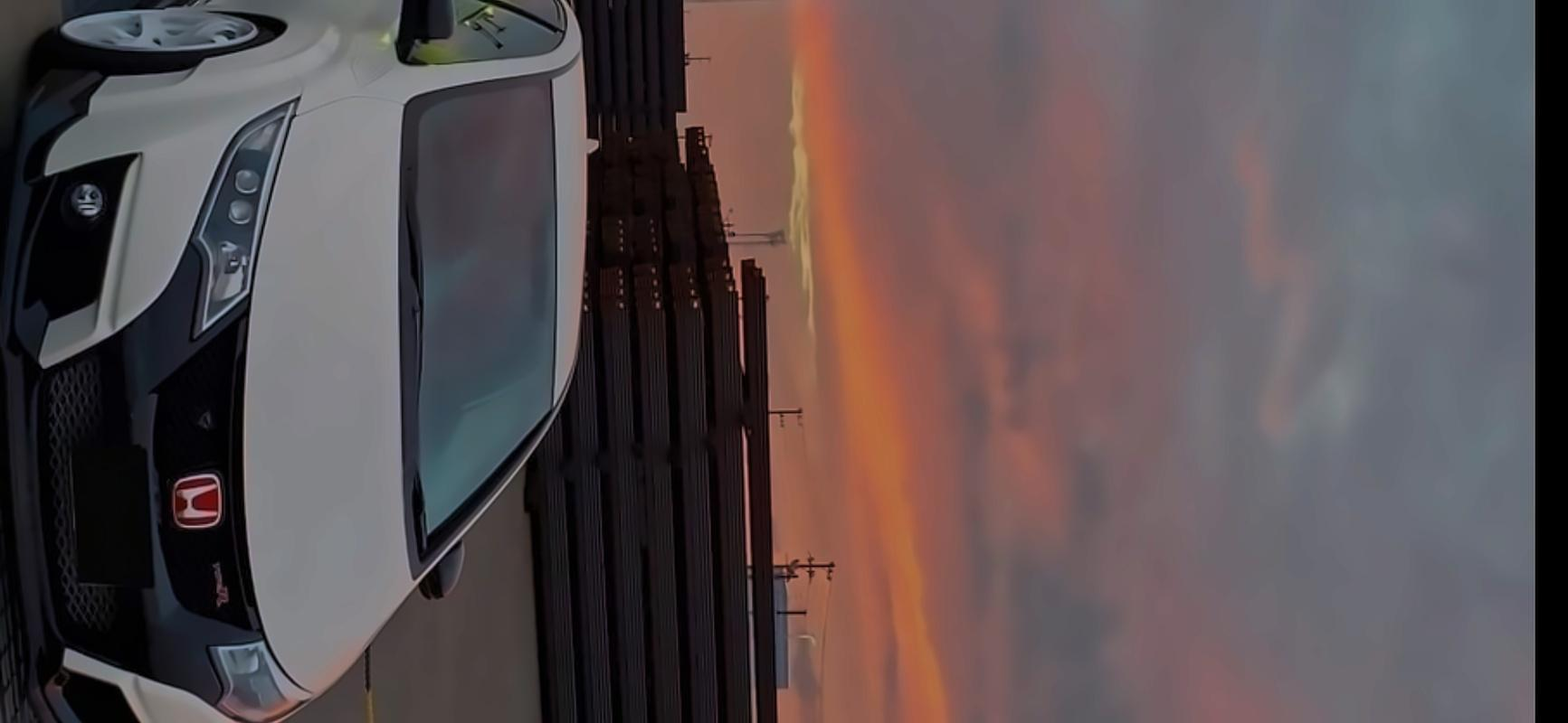Car hood: (235, 89, 427, 703)
Front bumper: (0, 62, 251, 723)
Headlight - -L-: (192, 627, 325, 723)
Headlight - -R-: (181, 78, 307, 345)
Side mirror - -L-: (398, 532, 472, 631)
Side mirror - -R-: (375, 0, 470, 78)
